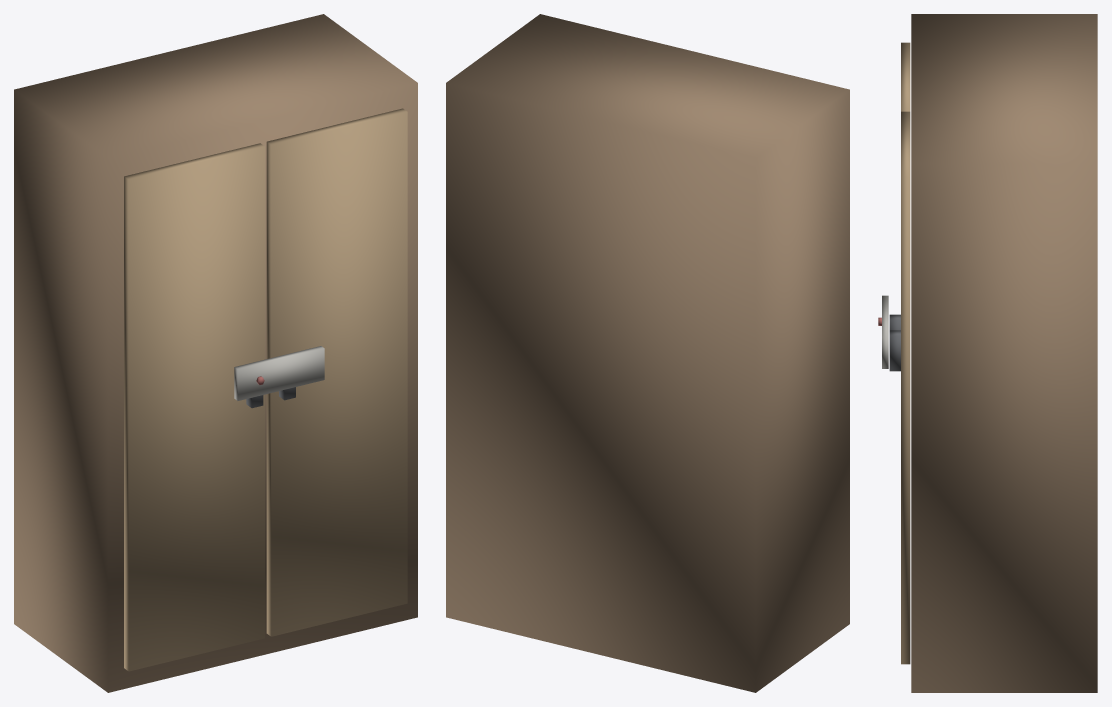
Rendered from mechanical_control_cabinet__tall.glb.
3 renders of one model, left to right at view 1: azimuth 30°, elevation 25°; view 2: azimuth 150°, elevation 25°; view 3: azimuth 270°, elevation 25°, orthographic.
Parts seen in each view (by area): view 1: world; view 2: world; view 3: world.
Part boxes in pixels (<box>): world: <box>14,14,417,692</box>; world: <box>446,14,849,692</box>; world: <box>878,14,1097,692</box>.
Size of the model in its own units: 0.95 by 1.57 by 0.5885.
